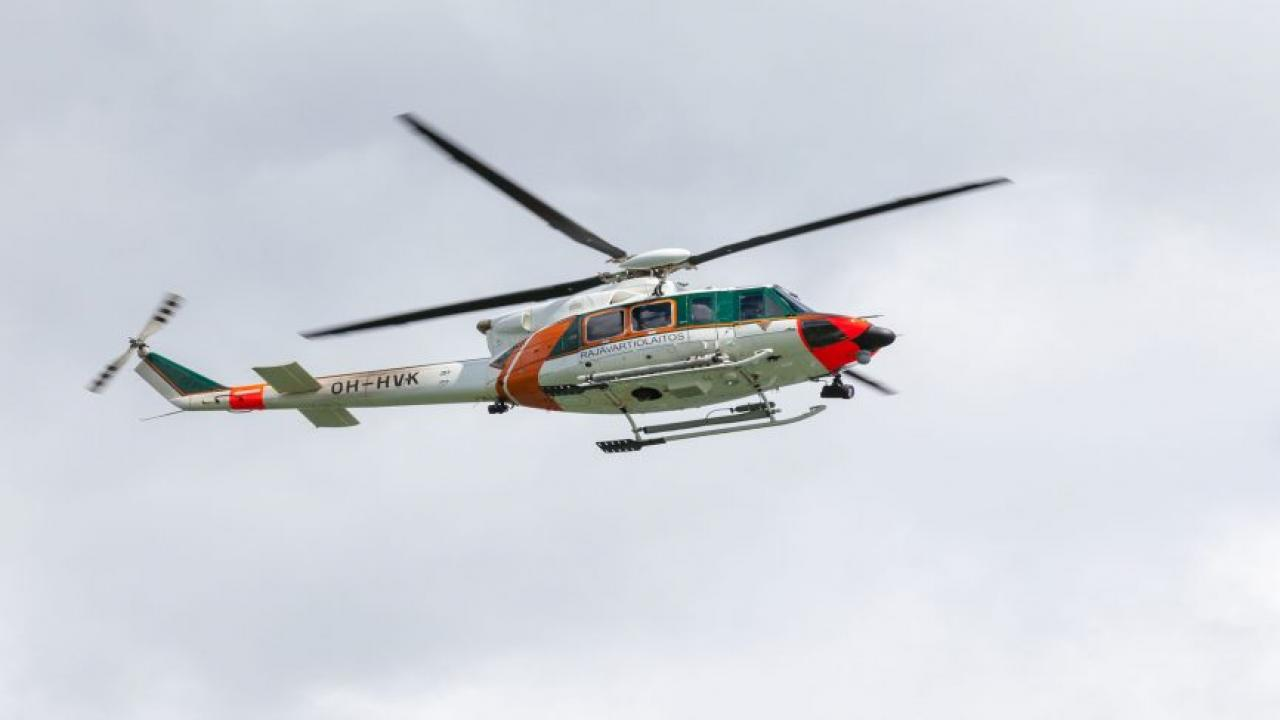Helicopter: (75, 94, 1025, 459)
